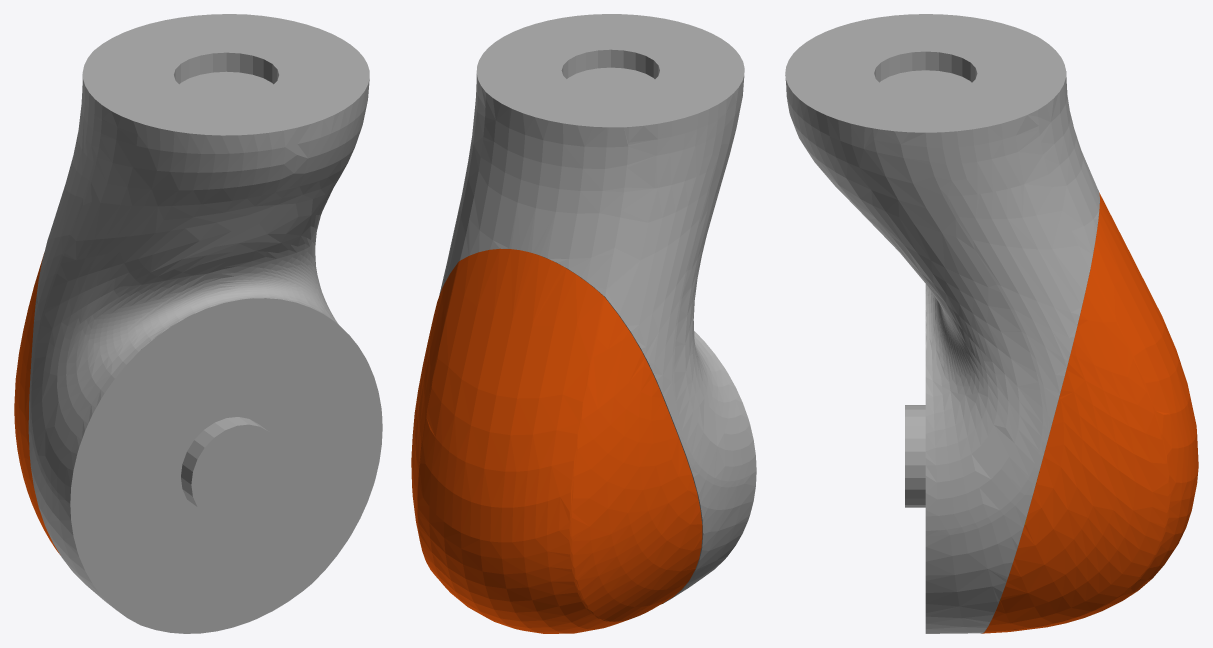
The picture shows the model from 3 angles, left to right: view 1: azimuth 30°, elevation 25°; view 2: azimuth 150°, elevation 25°; view 3: azimuth 270°, elevation 25°; orthographic projection. The views are drawn at different scales.
Visible parts, largest first — view 1: ShapeIndexedFaceSet; view 2: ShapeIndexedFaceSet; view 3: ShapeIndexedFaceSet.
Boxes of the visible parts, box(x1,y1,x2,y2) form: ShapeIndexedFaceSet: box(14, 14, 382, 633); ShapeIndexedFaceSet: box(411, 14, 756, 633); ShapeIndexedFaceSet: box(785, 14, 1198, 633).
Size of the model in its own units: 0.171 by 0.2899 by 0.2001.
